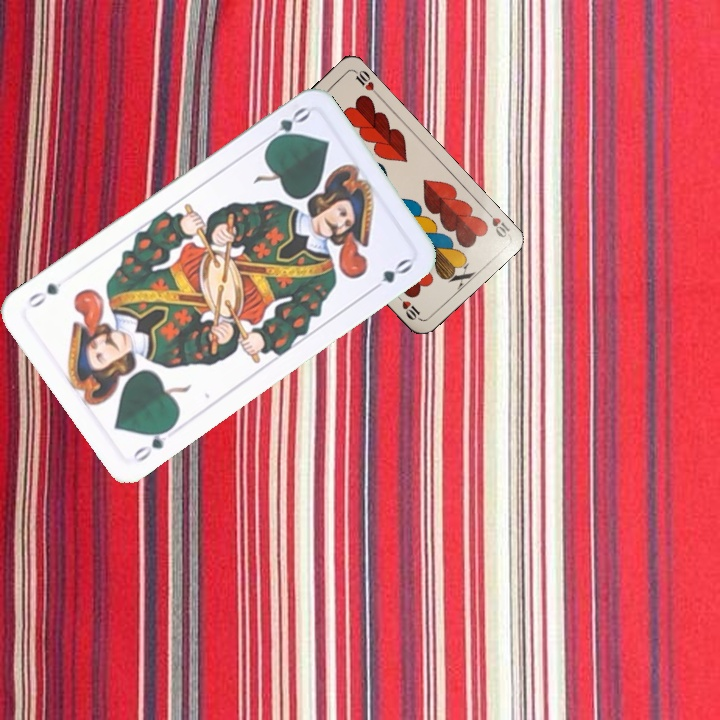GO: (259, 103, 312, 149), (128, 421, 178, 466)
H10: (480, 205, 512, 240)
